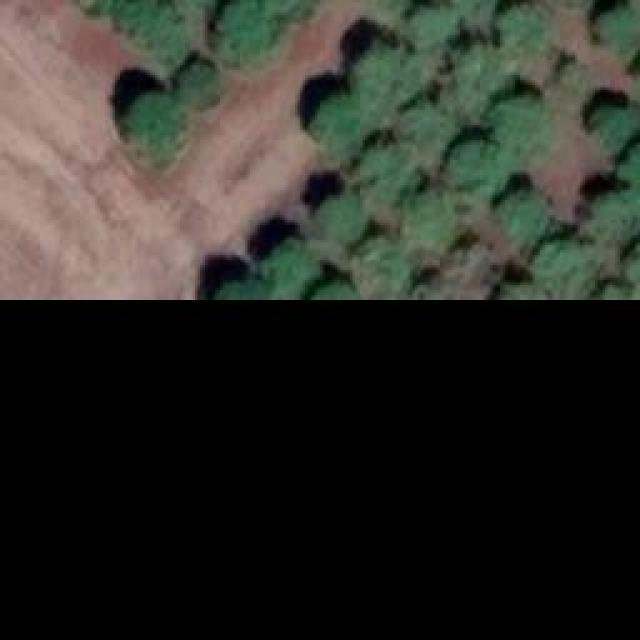Tree: (502, 235, 600, 298), (215, 243, 320, 298), (113, 0, 196, 68), (355, 45, 423, 125), (123, 93, 188, 173), (440, 50, 513, 118), (582, 192, 640, 270), (310, 95, 370, 153), (402, 193, 460, 253), (492, 95, 550, 153), (352, 240, 410, 298), (448, 143, 508, 198), (217, 0, 270, 62), (403, 107, 453, 165), (355, 147, 415, 195), (500, 3, 550, 48), (602, 240, 640, 298), (320, 195, 368, 240), (500, 195, 550, 238), (597, 7, 640, 50), (615, 140, 640, 213), (410, 5, 453, 45), (182, 63, 220, 103), (593, 110, 636, 145)
